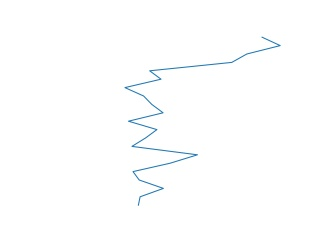crevasseRiverChannelBar: (121, 35, 285, 206)
